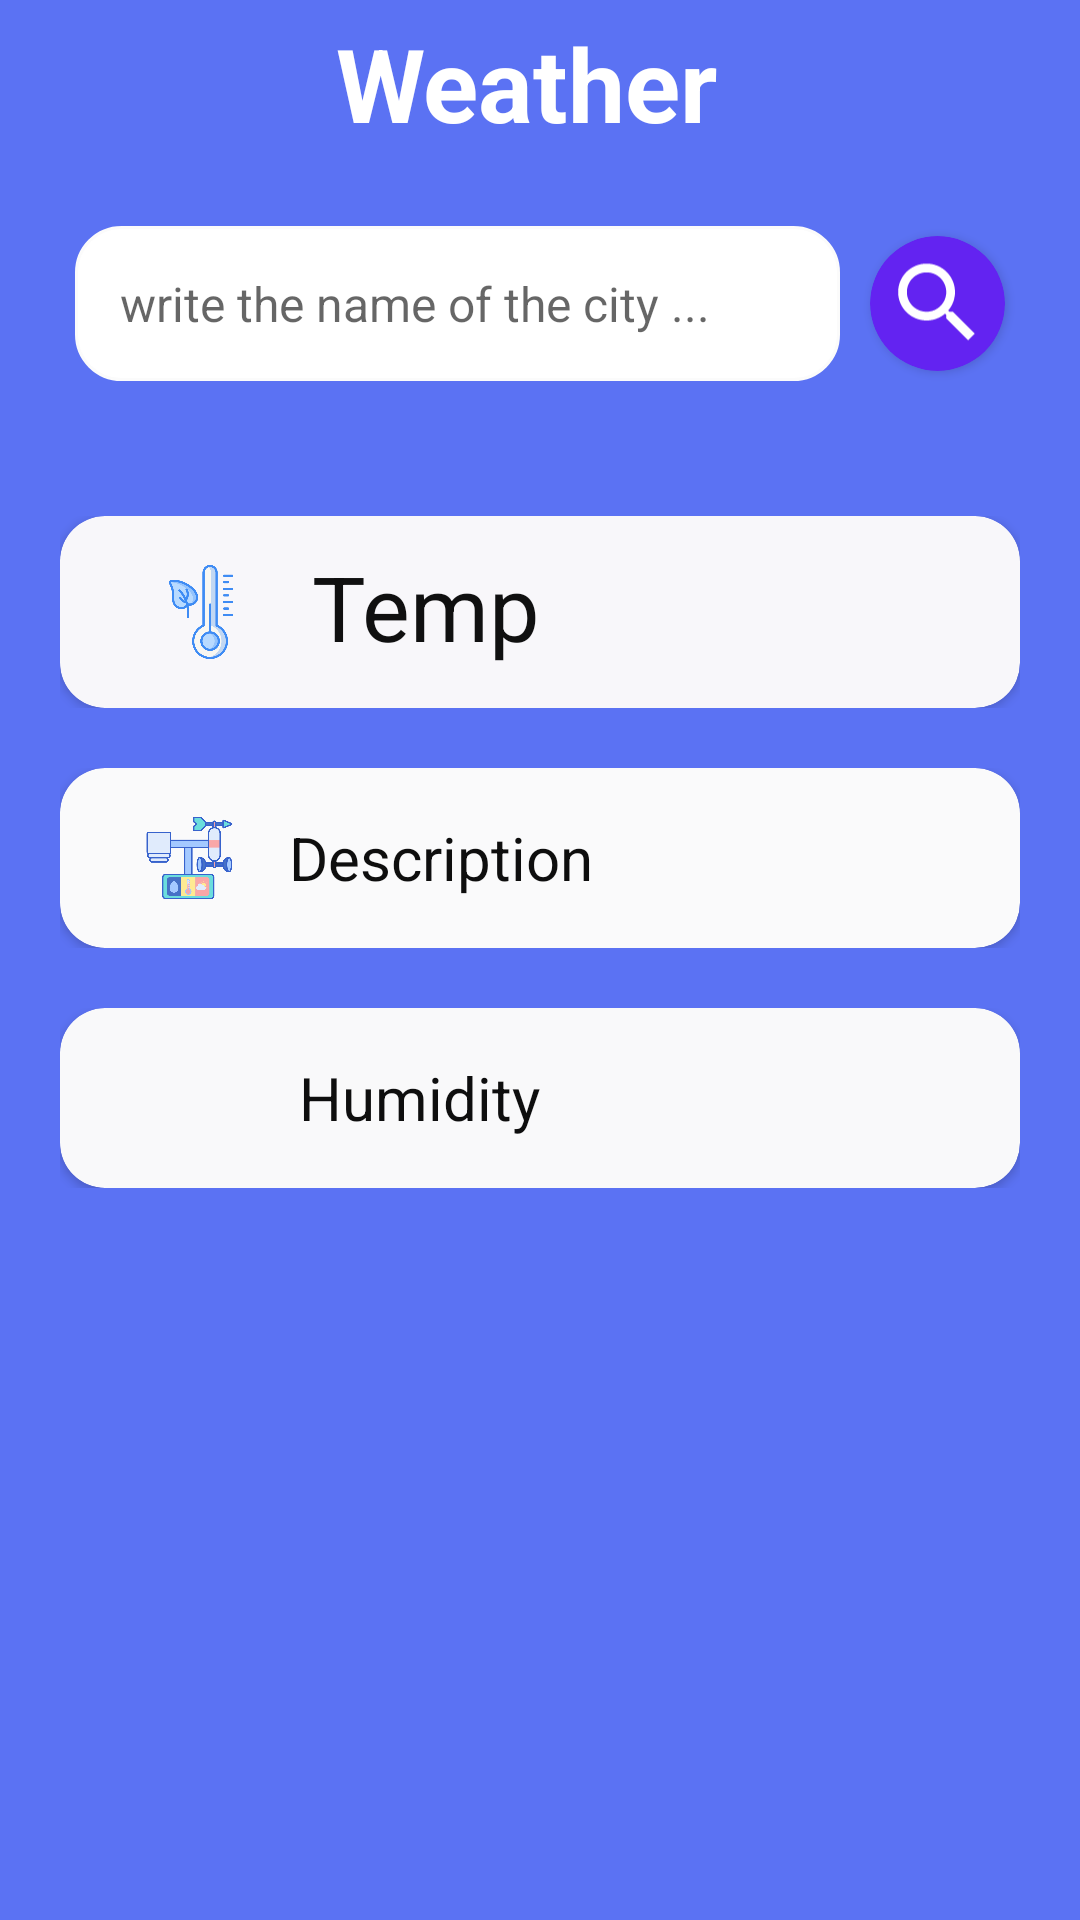

Named icons in this screenshot (1080x1920) and their bounding boxes, (x1, y1, x2, y2):
search: (885, 237, 990, 369)
station: (146, 817, 232, 899)
